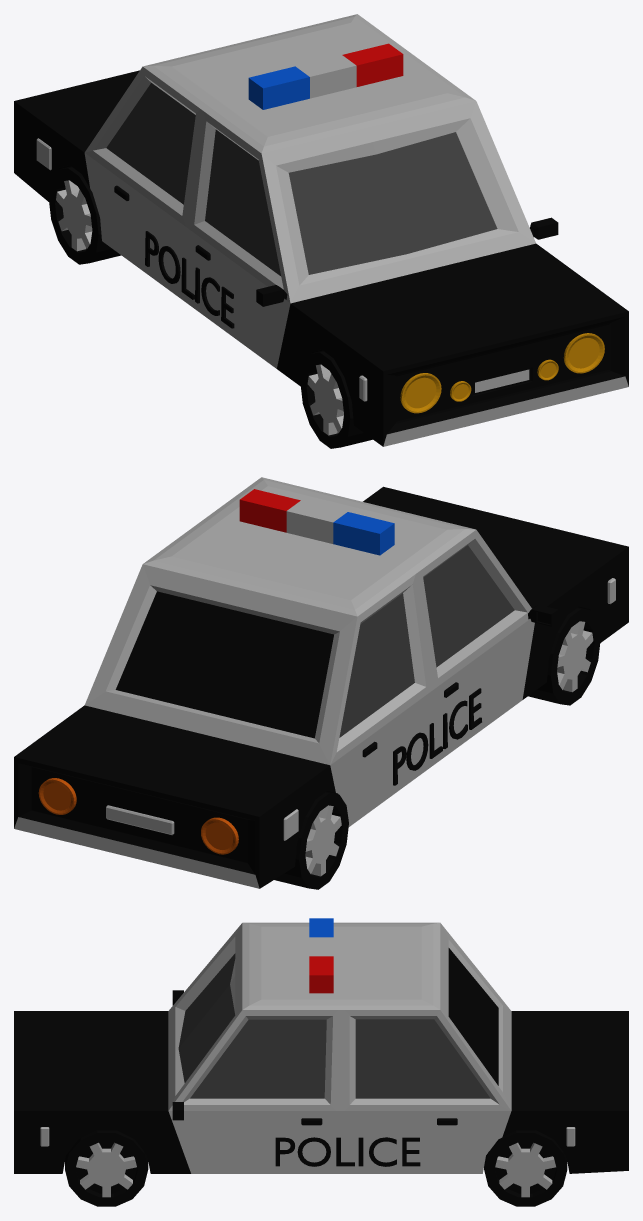
Rendered from BR WHEEL.012_BODY.022.glb.
3 views of the same model, one above another, from view 1: azimuth 30°, elevation 25°; view 2: azimuth 150°, elevation 25°; view 3: azimuth 270°, elevation 25° (orthographic). The views are drawn at different scales.
Parts seen in each view (by area): view 1: BR WHEEL.012_BODY.022_0; view 2: BR WHEEL.012_BODY.022_0; view 3: BR WHEEL.012_BODY.022_0.
Boxes of the visible parts, x1=… form: BR WHEEL.012_BODY.022_0: x1=14, y1=14, x2=628, y2=448; BR WHEEL.012_BODY.022_0: x1=14, y1=477, x2=628, y2=889; BR WHEEL.012_BODY.022_0: x1=14, y1=918, x2=628, y2=1206.
Bounding box in the file's own units: 0.3011 × 0.2464 × 0.6521.
Materials: 1 (1 with a texture image).
